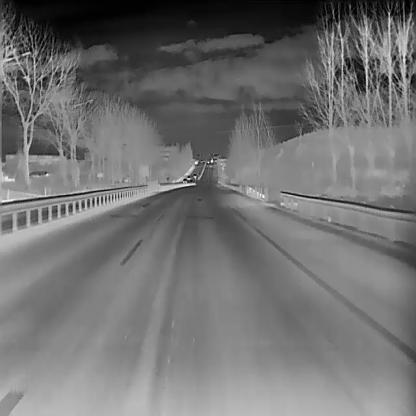car: (182, 176, 186, 183)
